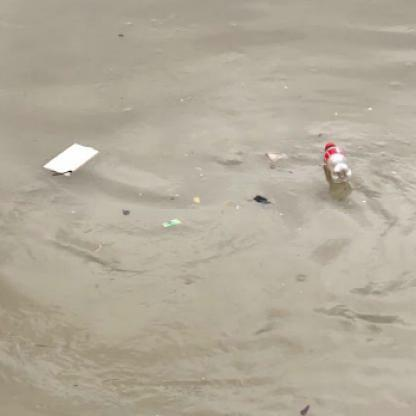Plastic: (316, 137, 354, 189)
Trash: (39, 138, 103, 180)
